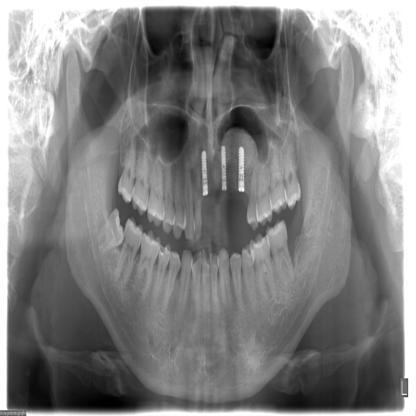ITI: (200, 148, 208, 198), (220, 144, 228, 193), (238, 144, 245, 193)
